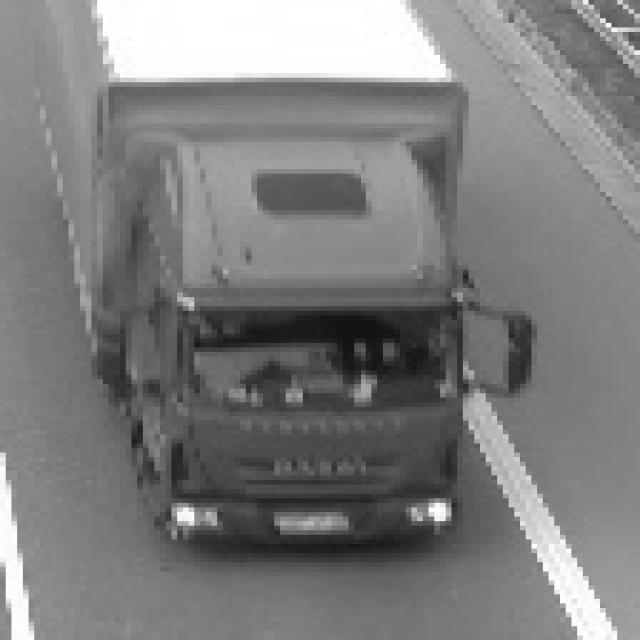truck: (71, 109, 526, 561)
